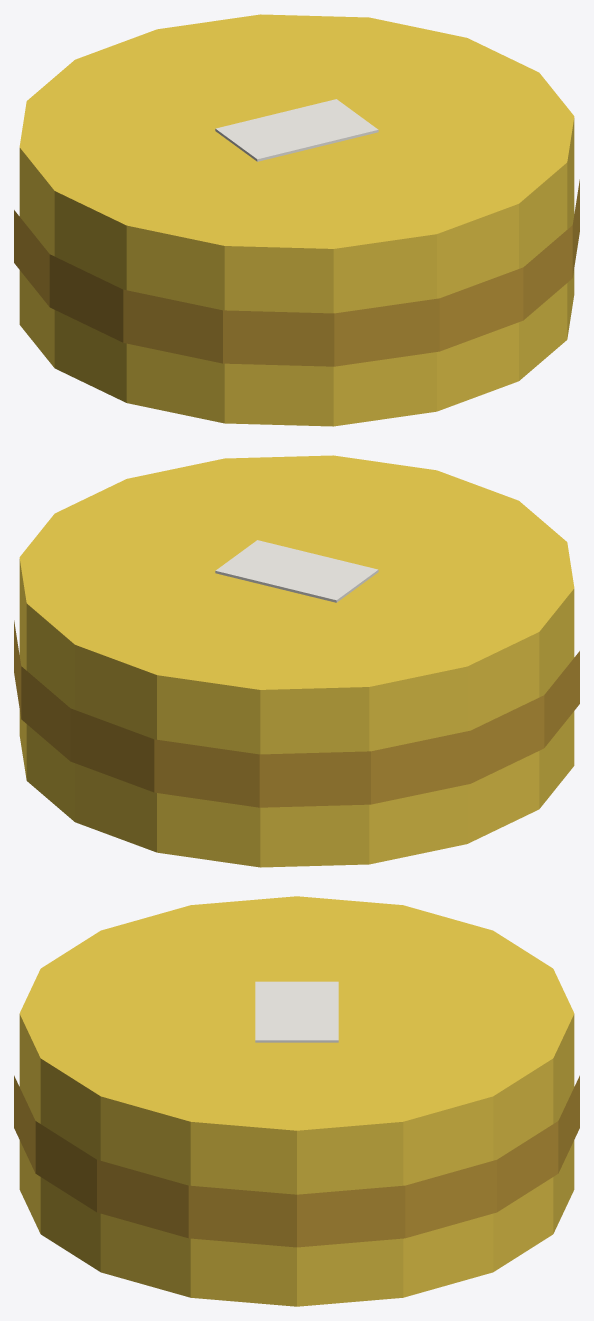
File: super_cheese_wheel.glb
3 views of the same model, one above another, from view 1: azimuth 30°, elevation 25°; view 2: azimuth 150°, elevation 25°; view 3: azimuth 270°, elevation 25° (orthographic).
Parts seen in each view (by area): view 1: cheese_cheese_yellow, rind_cheese_rind, label_cheese_label; view 2: cheese_cheese_yellow, rind_cheese_rind, label_cheese_label; view 3: cheese_cheese_yellow, rind_cheese_rind, label_cheese_label.
Part boxes in pixels (x1,y1,x2,y2): cheese_cheese_yellow: (19,14,574,426); rind_cheese_rind: (14,179,579,366); label_cheese_label: (215,99,378,161); cheese_cheese_yellow: (19,455,574,867); rind_cheese_rind: (14,620,579,807); label_cheese_label: (215,540,378,602); cheese_cheese_yellow: (19,896,574,1306); rind_cheese_rind: (14,1075,579,1247); label_cheese_label: (255,981,338,1042).
Size of the model in its own units: 0.408 by 0.142 by 0.408.
